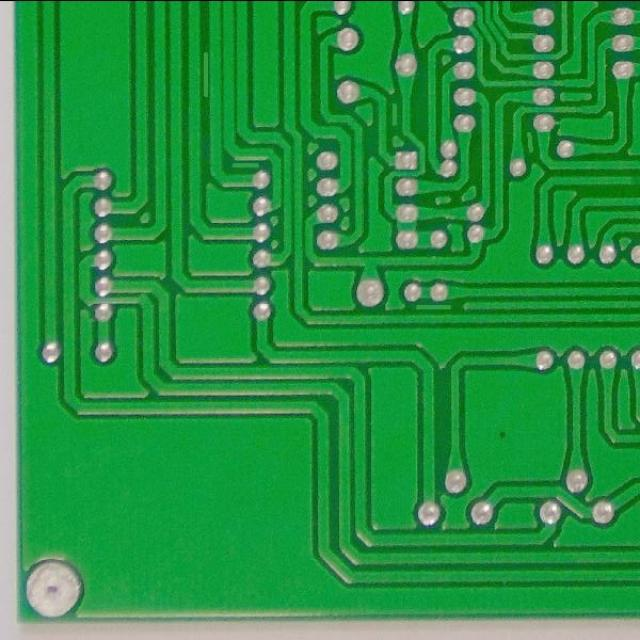Spurious_Cooper: (201, 48, 211, 101), (412, 301, 454, 312), (230, 160, 262, 171), (524, 128, 536, 155), (389, 100, 400, 128)
